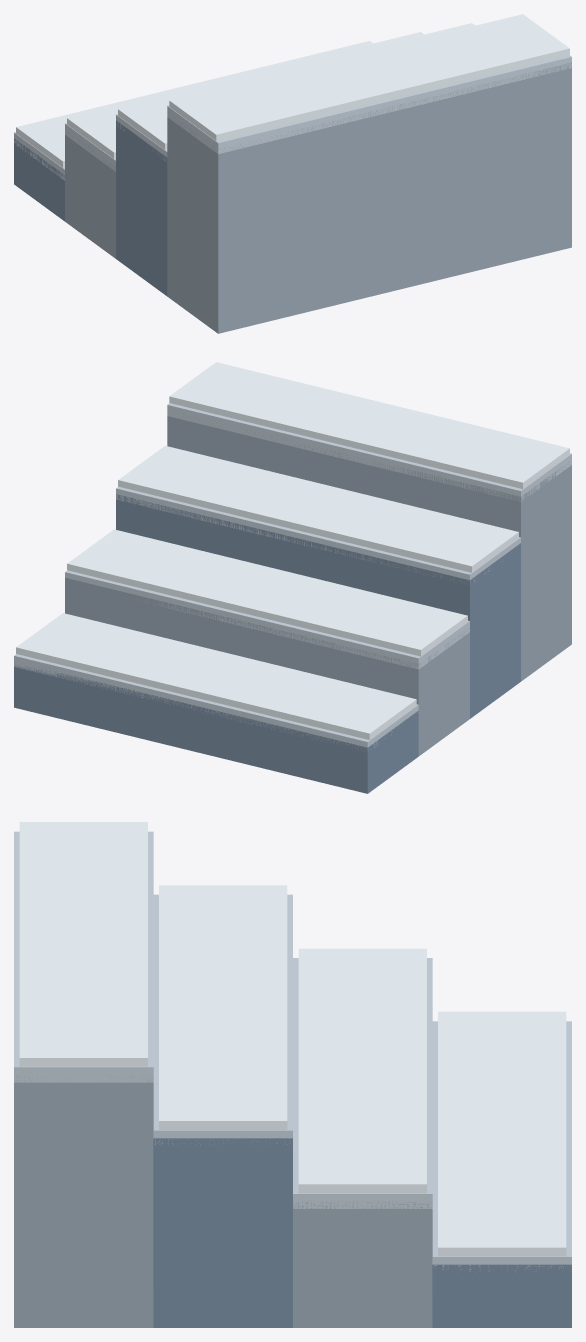
File: stairs-stone-snowy.glb
3 views of the same model, one above another, from view 1: azimuth 30°, elevation 25°; view 2: azimuth 150°, elevation 25°; view 3: azimuth 270°, elevation 25° (orthographic). The views are drawn at different scales.
Visible parts, largest first — view 1: stairs-stone-kit-snowy-stone, stairs-stone-kit-snowy-top, stairs-stone-kit-snowy-shade, stairs-stone-kit-snowy-light; view 2: stairs-stone-kit-snowy-top, stairs-stone-kit-snowy-shade, stairs-stone-kit-snowy-stone, stairs-stone-kit-snowy-light; view 3: stairs-stone-kit-snowy-top, stairs-stone-kit-snowy-stone, stairs-stone-kit-snowy-shade, stairs-stone-kit-snowy-light.
Boxes of the visible parts, x1,y1,x2,y2 form: stairs-stone-kit-snowy-stone: (65,62,571,333); stairs-stone-kit-snowy-top: (16,14,569,167); stairs-stone-kit-snowy-shade: (14,120,167,296); stairs-stone-kit-snowy-light: (14,55,571,180); stairs-stone-kit-snowy-top: (16,362,569,739); stairs-stone-kit-snowy-shade: (14,494,520,793); stairs-stone-kit-snowy-stone: (65,411,571,756); stairs-stone-kit-snowy-light: (14,403,571,752); stairs-stone-kit-snowy-top: (19,822,566,1256); stairs-stone-kit-snowy-stone: (14,1075,432,1327); stairs-stone-kit-snowy-shade: (153,1138,571,1327); stairs-stone-kit-snowy-light: (14,831,571,1272).
Size of the model in its own units: 2 by 1.07 by 2.
